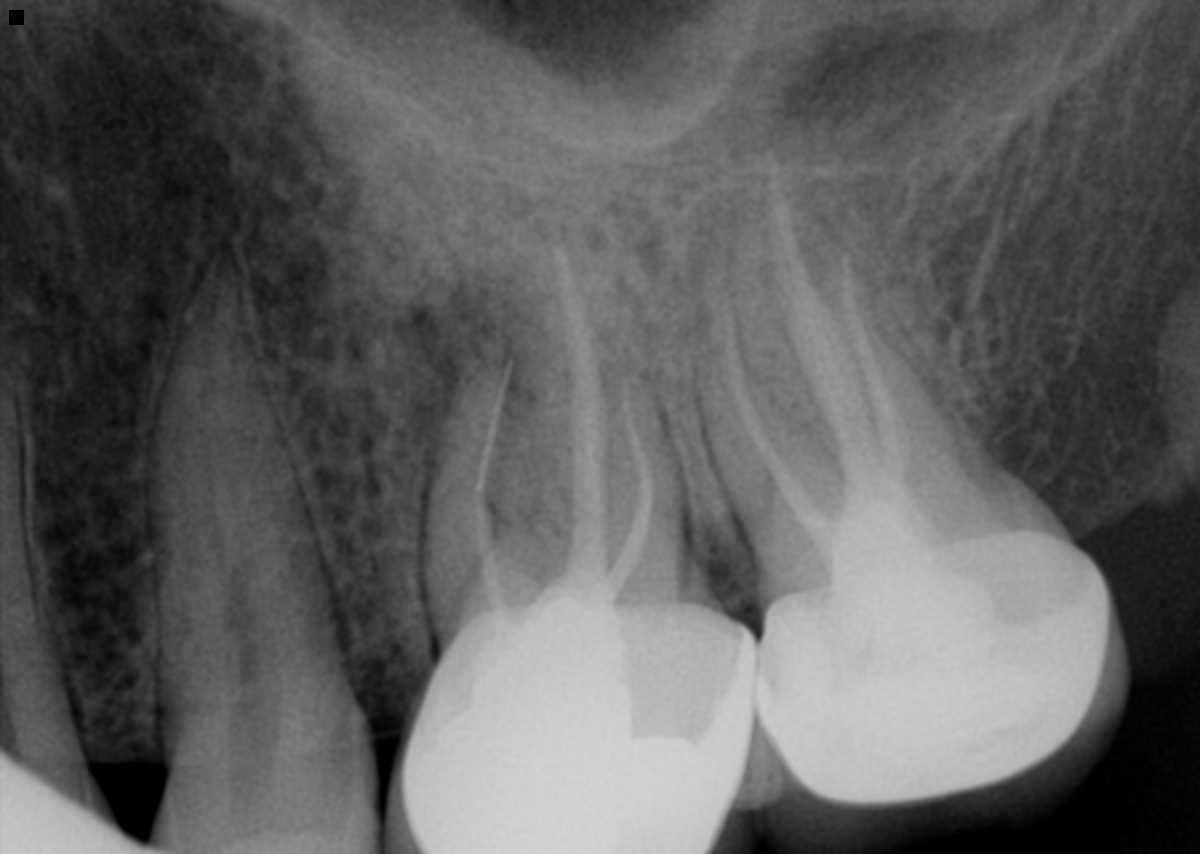Apical Lesion: (402, 284, 542, 455)
Distal Root: (812, 211, 1034, 529), (588, 370, 684, 611)
Main Canal: (222, 549, 270, 737)
Main Root: (145, 242, 363, 746), (0, 381, 82, 755)
Mesial Root: (693, 226, 883, 602), (420, 370, 545, 653)
Palatal Root: (729, 113, 980, 604), (501, 203, 708, 606)
Root Canal Filling: (761, 147, 920, 539), (721, 290, 837, 559), (549, 243, 610, 588), (839, 254, 905, 492), (597, 390, 655, 601), (470, 498, 510, 616)
